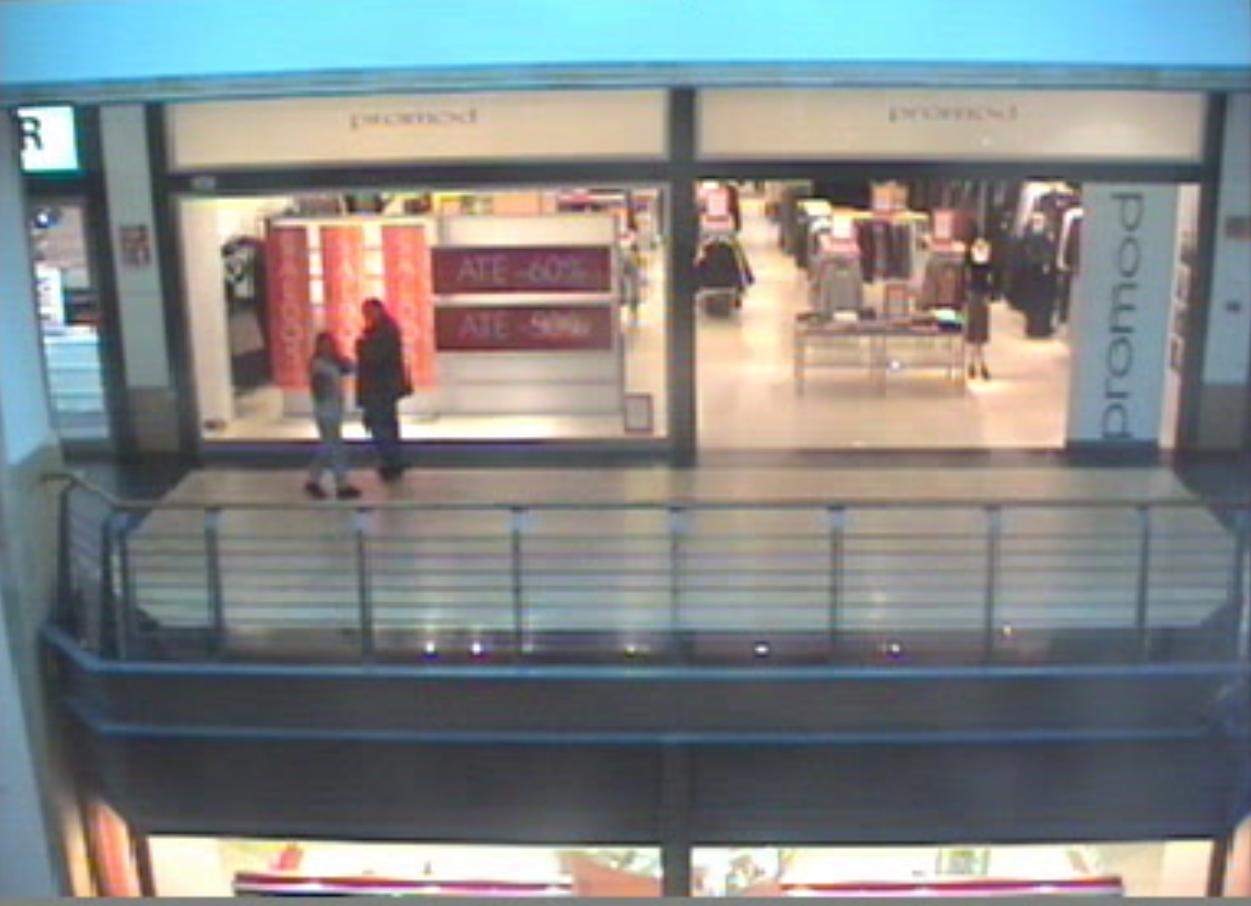person: (338, 284, 404, 500), (292, 312, 364, 508)
